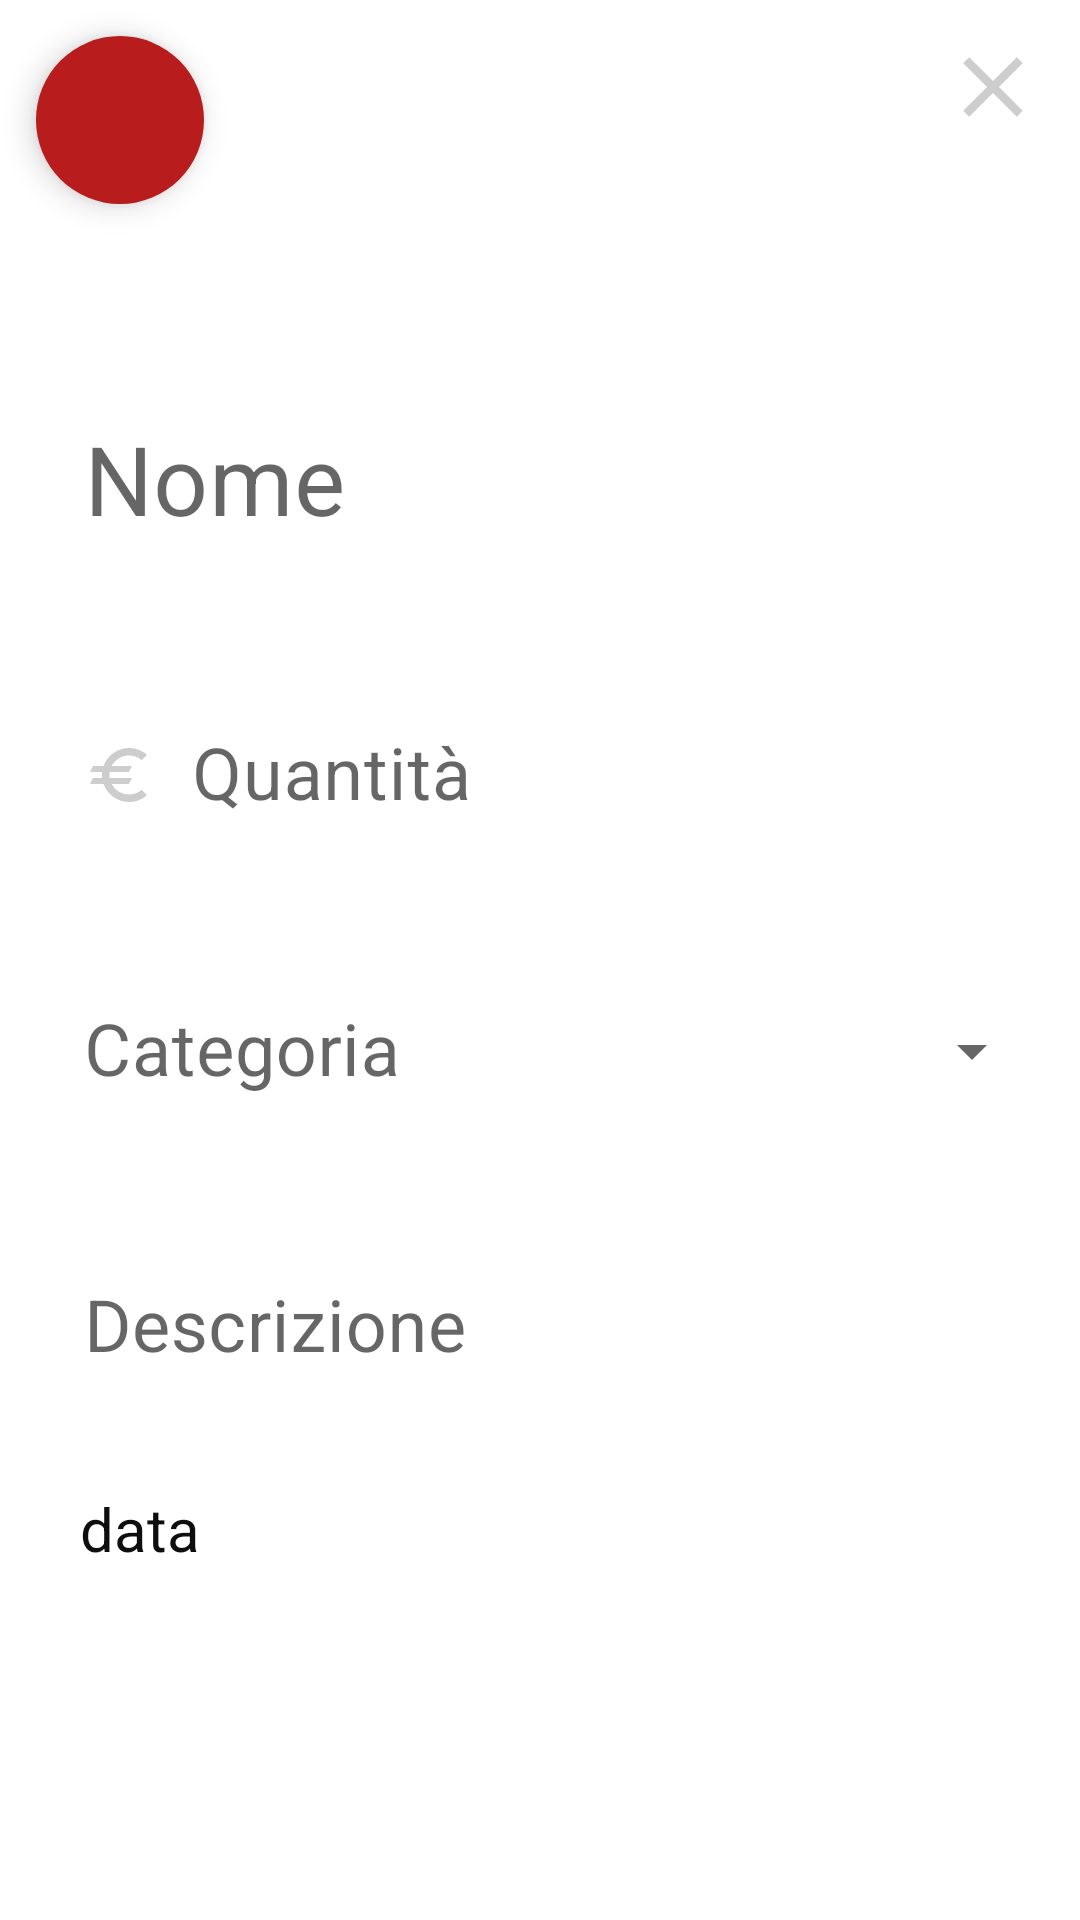

Screen size 1080 x 1920. Icon name, then its center in pixels as point (x, y):
close: point (993, 87)
